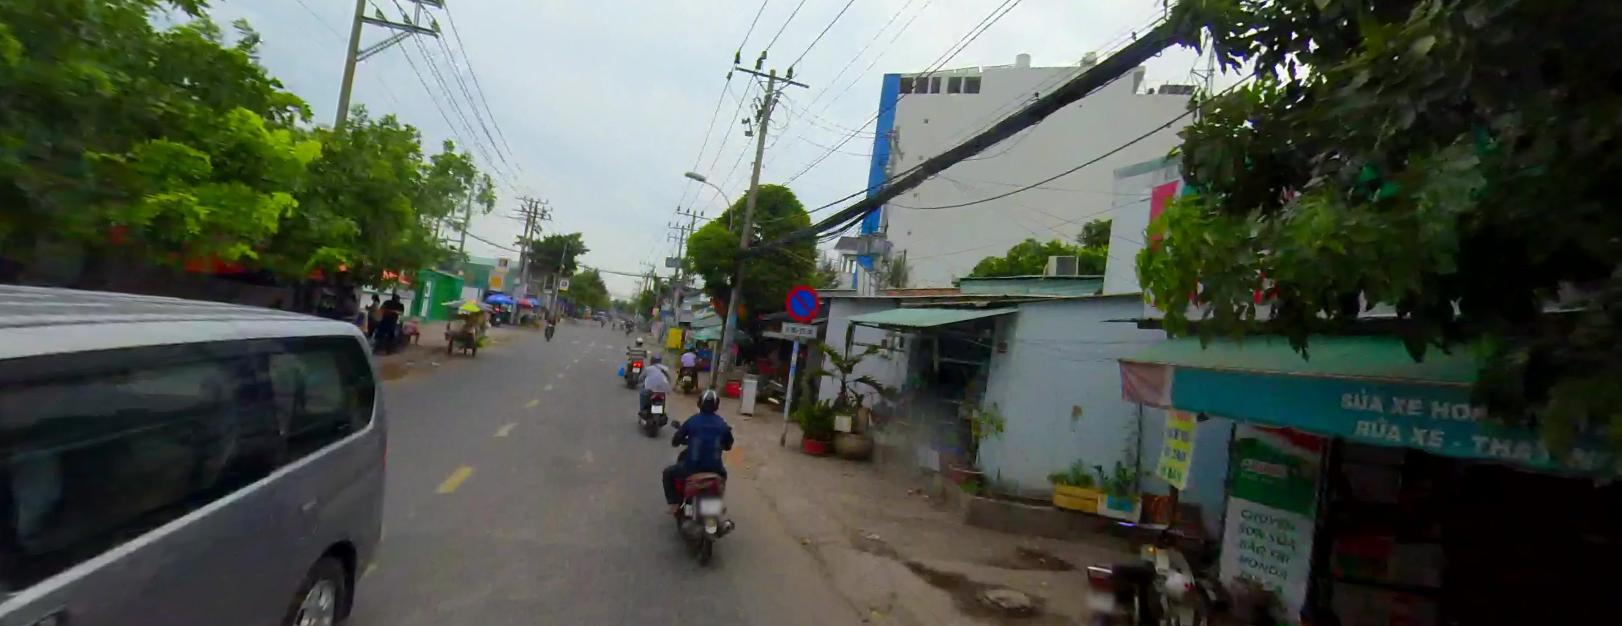Cam dung va do: (785, 282, 820, 322)
